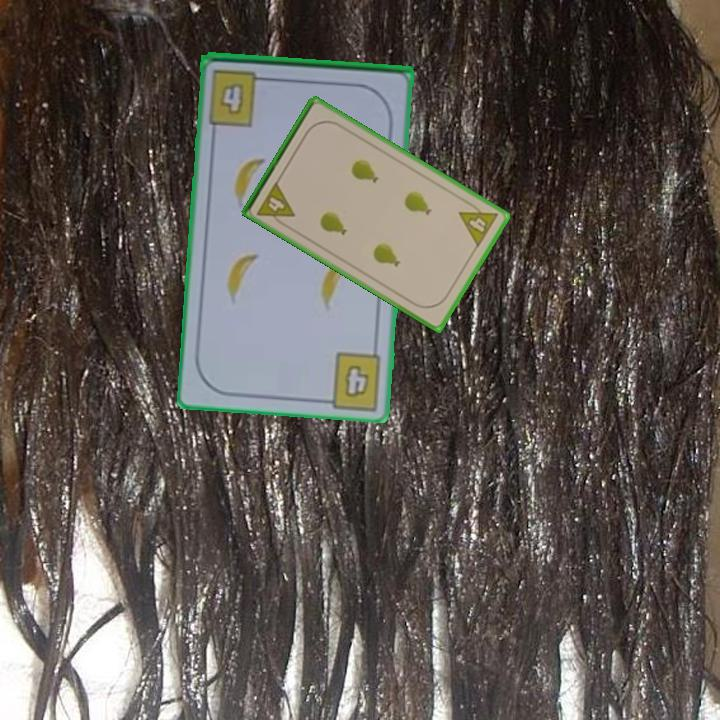4b: (205, 66, 273, 128), (341, 362, 373, 401)
4p: (455, 197, 501, 250), (253, 178, 298, 230)
